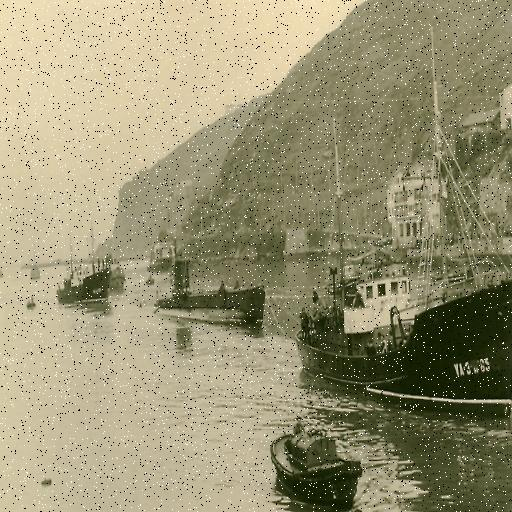submarine: (147, 249, 265, 325)
